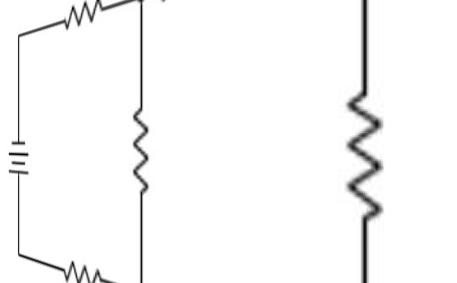resistor: (334, 81, 388, 252), (119, 96, 161, 197), (55, 0, 114, 28), (55, 253, 118, 278)
